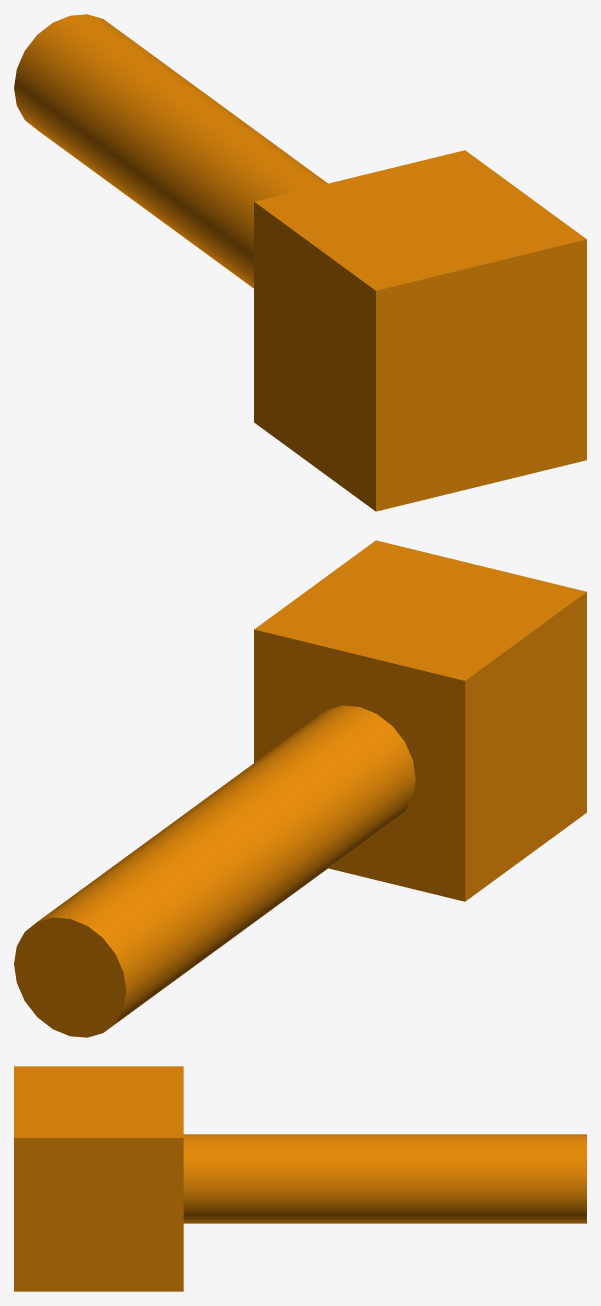
Rendered from Enemy.fbx.
3 views of the same model, one above another, from view 1: azimuth 30°, elevation 25°; view 2: azimuth 150°, elevation 25°; view 3: azimuth 270°, elevation 25° (orthographic). The views are drawn at different scales.
Parts seen in each view (by area): view 1: pCylinder2; view 2: pCylinder2; view 3: pCylinder2.
Boxes of the visible parts, box(x1,y1,x2,y2) form: pCylinder2: box(14, 14, 586, 511); pCylinder2: box(14, 540, 586, 1037); pCylinder2: box(14, 1066, 586, 1291).
Bounding box in the file's own units: 1.81 × 1.81 × 6.12.
